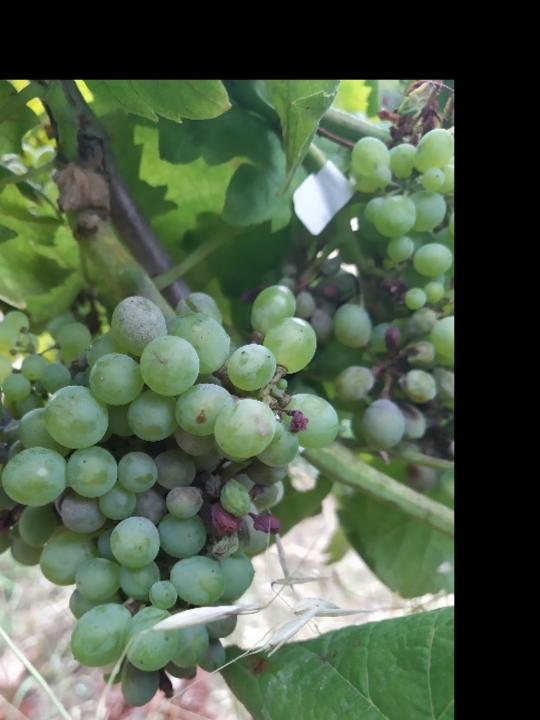grape: (0, 282, 343, 710)
